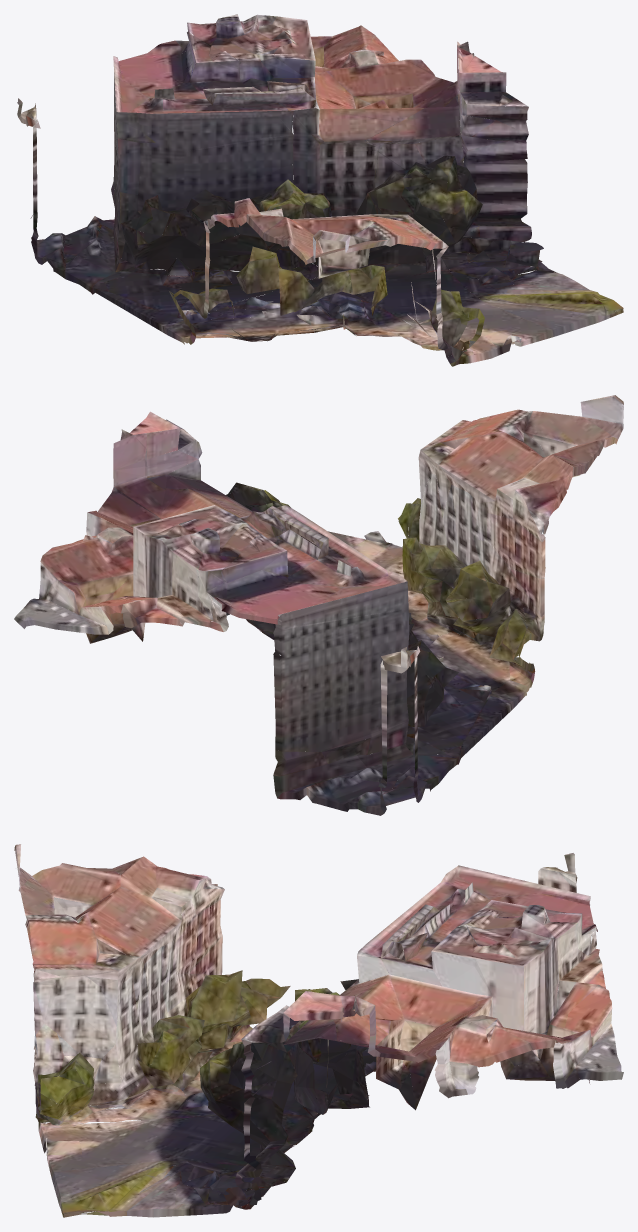
3 renders of one model, top to bottom at view 1: azimuth 30°, elevation 25°; view 2: azimuth 150°, elevation 25°; view 3: azimuth 270°, elevation 25°, orthographic. The views are drawn at different scales.
Parts seen in each view (by area): view 1: Mesh_0; view 2: Mesh_0; view 3: Mesh_0.
Part boxes in pixels (x1=…): Mesh_0: x1=17, y1=14, x2=623, y2=366; Mesh_0: x1=14, y1=395, x2=623, y2=815; Mesh_0: x1=14, y1=844, x2=623, y2=1217.
Bounding box in the file's own units: 67.17 × 34.04 × 82.68.
Materials: 2 (2 with a texture image).
